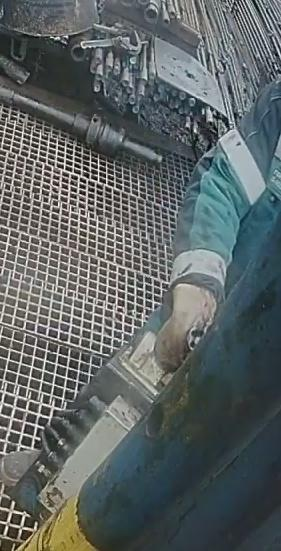gloves: (152, 268, 221, 372)
vest: (190, 70, 281, 261)
